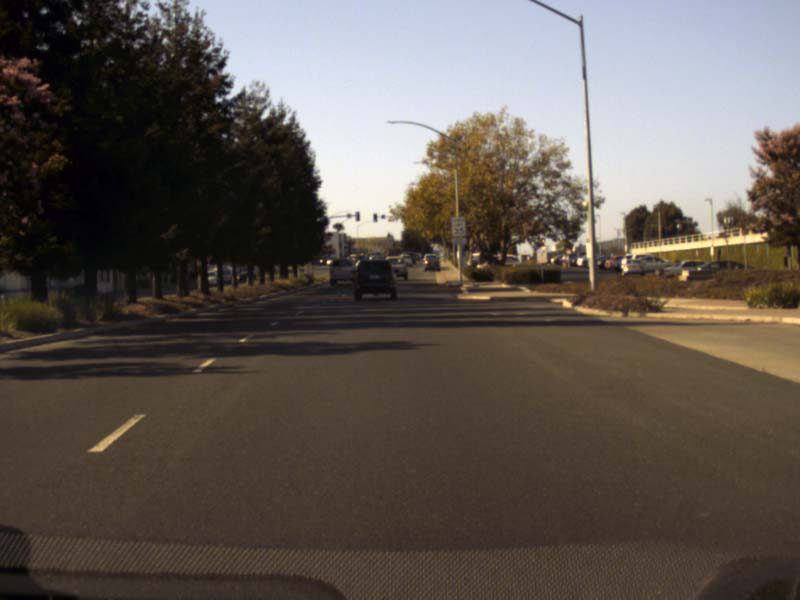Green: (373, 214, 376, 222)
